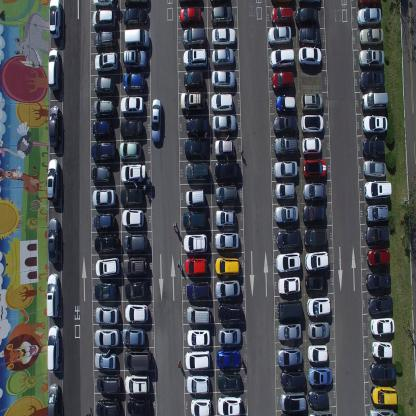car: (47, 216, 60, 264), (47, 322, 60, 370), (46, 271, 59, 319), (124, 348, 151, 371), (363, 180, 391, 202), (279, 390, 307, 412), (360, 90, 388, 112), (269, 46, 294, 70), (276, 298, 302, 321), (214, 160, 240, 183), (124, 372, 150, 395), (123, 27, 150, 49), (361, 113, 388, 135), (358, 68, 385, 90), (47, 158, 60, 203), (214, 182, 238, 206), (150, 96, 162, 144), (94, 231, 119, 254), (275, 251, 300, 274), (94, 51, 119, 74), (48, 0, 62, 41), (370, 361, 396, 383), (367, 296, 393, 318), (365, 272, 391, 294), (122, 254, 148, 276), (182, 46, 208, 68), (122, 48, 148, 70), (272, 113, 298, 135), (370, 386, 398, 406), (216, 347, 241, 369), (214, 230, 239, 252), (301, 204, 326, 226), (273, 159, 298, 181), (185, 160, 210, 182), (180, 90, 205, 112), (94, 256, 119, 278), (304, 250, 329, 272), (359, 26, 384, 48), (214, 254, 240, 275), (277, 346, 303, 367), (217, 301, 243, 322), (94, 327, 120, 348), (273, 135, 299, 156), (49, 104, 61, 149), (48, 47, 60, 92), (358, 48, 385, 68), (302, 158, 326, 180), (124, 278, 148, 300), (361, 138, 385, 160), (120, 94, 144, 116), (270, 70, 294, 92), (364, 226, 389, 247), (92, 187, 117, 208), (91, 141, 116, 162), (185, 116, 210, 137), (185, 349, 210, 370), (276, 228, 301, 249), (214, 278, 240, 298), (183, 138, 209, 158), (120, 164, 146, 184), (217, 395, 243, 415), (356, 6, 382, 26), (304, 272, 327, 294), (365, 204, 388, 226), (119, 140, 142, 162), (186, 279, 209, 301), (93, 75, 116, 97), (212, 68, 235, 90), (299, 45, 322, 67), (274, 204, 298, 225), (123, 232, 147, 253), (212, 113, 236, 134), (120, 119, 144, 140), (122, 72, 146, 93), (300, 113, 324, 134), (267, 24, 291, 45), (92, 9, 116, 30), (307, 366, 332, 386), (216, 372, 241, 392), (185, 374, 210, 394), (125, 302, 150, 322), (365, 249, 390, 269), (183, 232, 208, 252), (96, 373, 121, 393), (182, 26, 207, 46), (211, 26, 236, 46), (123, 6, 148, 26), (280, 370, 306, 389), (186, 305, 212, 324), (126, 396, 152, 415), (211, 92, 233, 114), (307, 387, 329, 409), (94, 30, 116, 52), (302, 182, 325, 203), (93, 211, 116, 232), (179, 5, 202, 26), (306, 297, 330, 317), (278, 323, 302, 343), (94, 280, 118, 300), (303, 228, 327, 248), (300, 91, 324, 111), (217, 326, 242, 345), (182, 210, 207, 229), (274, 182, 296, 203), (90, 164, 112, 185), (184, 187, 206, 208), (278, 275, 300, 296), (212, 47, 234, 68), (210, 5, 232, 26), (121, 208, 144, 228), (120, 186, 143, 206), (94, 350, 117, 370), (298, 26, 321, 46), (370, 318, 394, 337), (95, 304, 119, 323), (295, 5, 319, 24), (270, 5, 294, 24), (214, 207, 236, 227), (93, 98, 115, 118), (182, 69, 204, 89), (184, 255, 207, 274), (362, 161, 386, 179), (186, 328, 210, 346), (96, 397, 120, 415), (47, 382, 60, 415), (92, 119, 113, 139), (302, 135, 322, 156), (275, 93, 296, 113), (190, 396, 212, 415), (122, 326, 145, 344), (214, 138, 234, 158), (307, 321, 329, 339), (308, 344, 328, 362), (372, 341, 392, 359), (368, 406, 396, 416), (93, 0, 117, 10), (307, 408, 333, 416), (124, 0, 149, 8), (357, 0, 381, 7)
